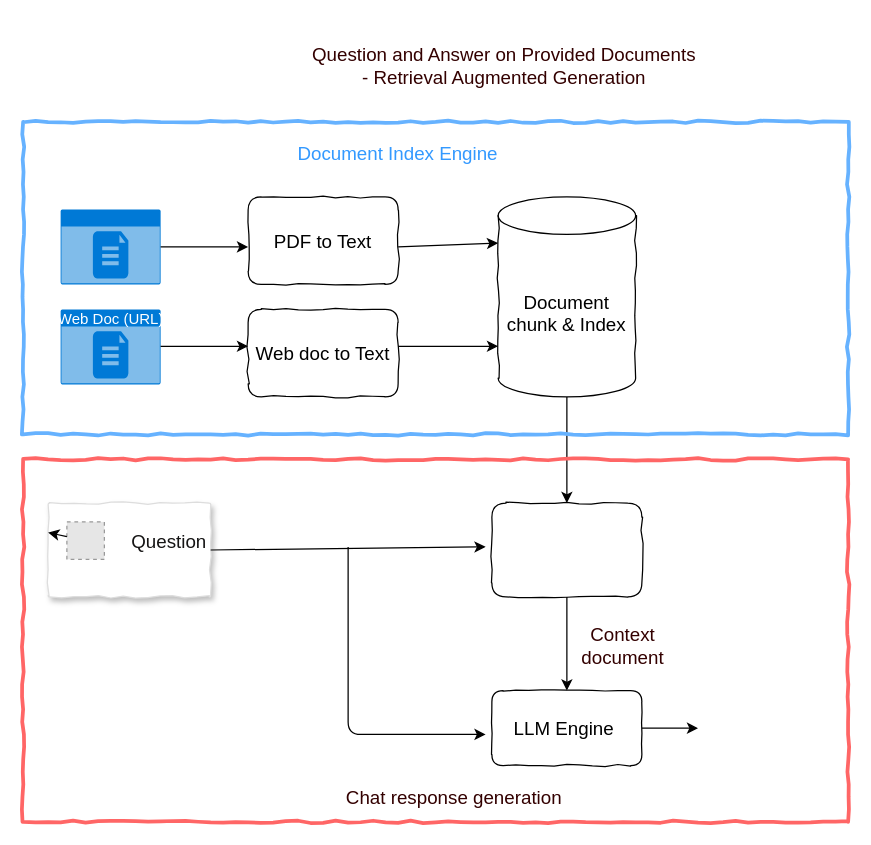
Some shapes in this 871 by 845 pixel diagram are drawn without their labels. Grey dashed boxes stand in for pictures. Here are the shapes that lost their labels. From the top down, the centre of each, then its label:
At pixel 110 246: "PDF".
At pixel 566 549: "Retrieve Engine".
At pixel 773 727: "LLM Output".
